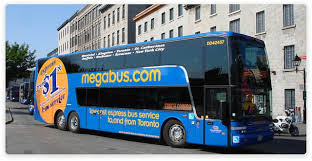bus: (30, 31, 278, 149)
